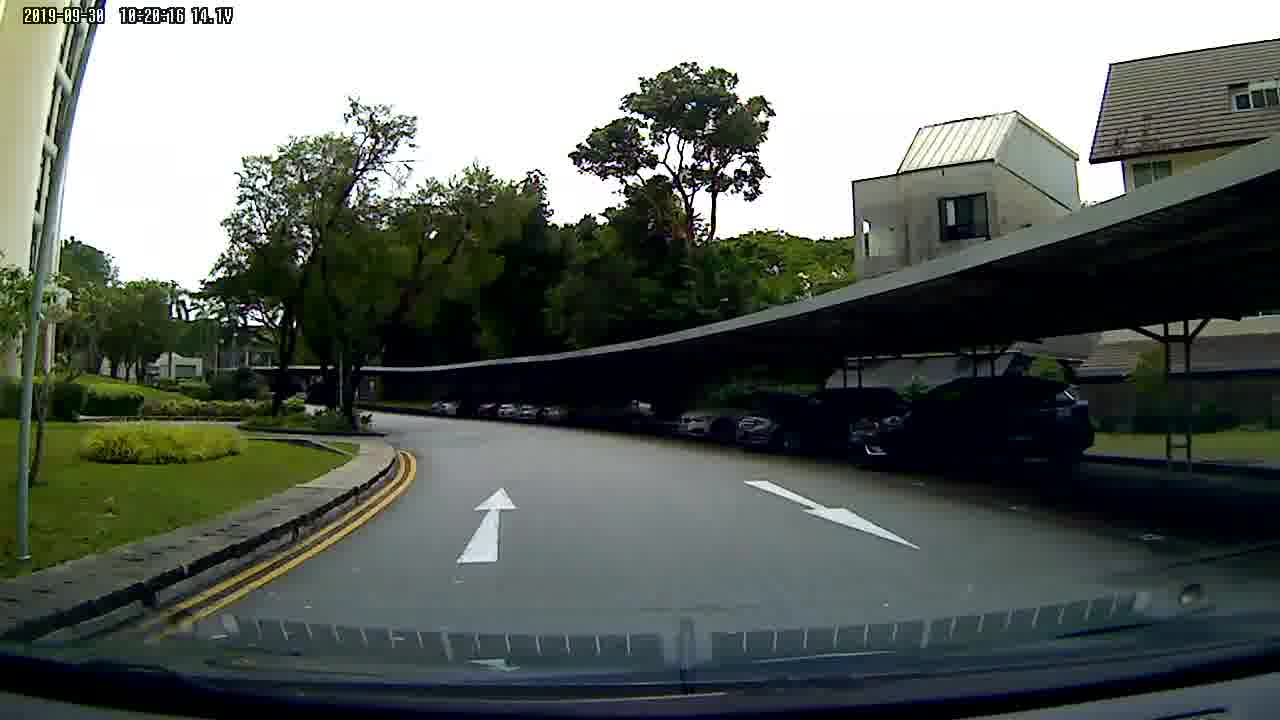car: (855, 372, 1104, 486), (672, 379, 851, 469)
